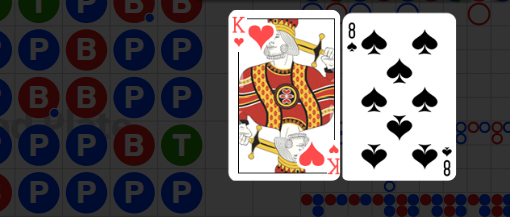8S: (346, 21, 359, 54)
KH: (231, 15, 246, 48)
